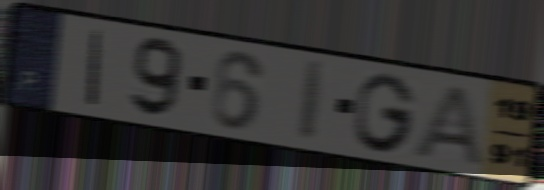6: (210, 48, 267, 133)
9: (127, 37, 185, 119)
A: (408, 84, 489, 170)
G: (352, 71, 419, 155)
I: (296, 58, 330, 146), (84, 27, 106, 109)
